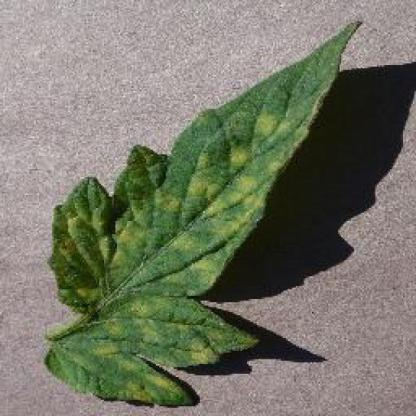Tomato_Leaf_Mold: (45, 20, 354, 406)
